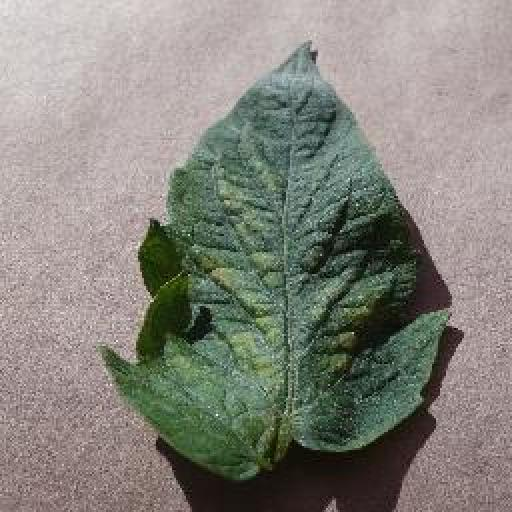disease_tomato: (100, 41, 449, 479)
